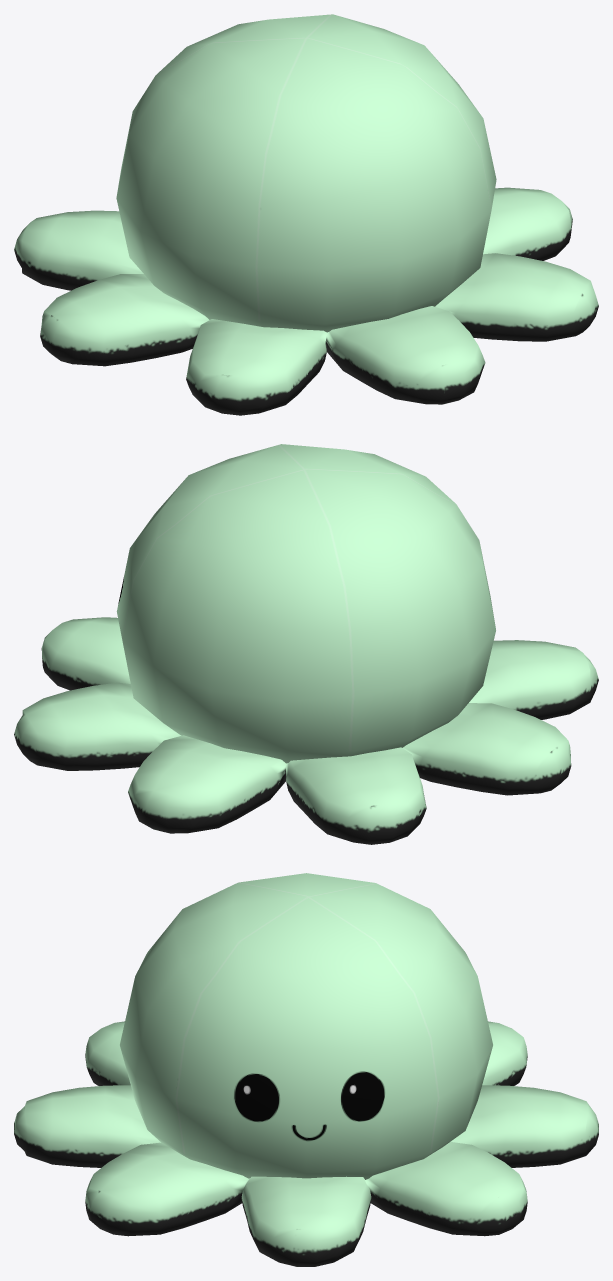
3 renders of one model, top to bottom at view 1: azimuth 30°, elevation 25°; view 2: azimuth 150°, elevation 25°; view 3: azimuth 270°, elevation 25°, orthographic. The views are drawn at different scales.
Parts seen in each view (by area): view 1: Head_low, Limbs_low; view 2: Head_low, Limbs_low; view 3: Head_low, Limbs_low.
Boxes of the visible parts, x1,y1,x2,y2 form: Head_low: [116, 14, 496, 332]; Limbs_low: [14, 187, 598, 415]; Head_low: [116, 444, 495, 763]; Limbs_low: [14, 617, 598, 844]; Head_low: [120, 873, 492, 1179]; Limbs_low: [14, 1021, 598, 1266].
Bounding box in the file's own units: 3.13 × 1.49 × 3.13.
1 material, 1 textured.
